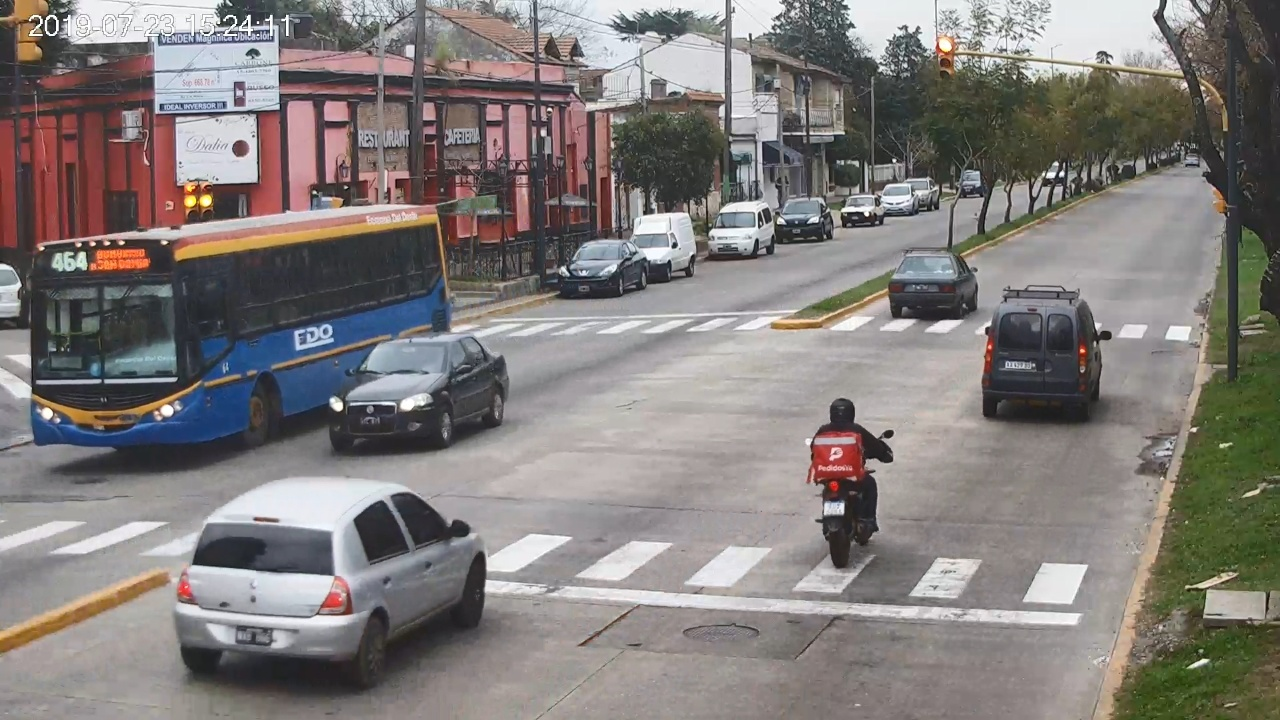car: (174, 476, 486, 682), (982, 286, 1112, 416), (888, 247, 979, 319)
front car: (328, 333, 508, 446)
motorcycle: (805, 428, 894, 568)
traffic light: (938, 37, 955, 80)
